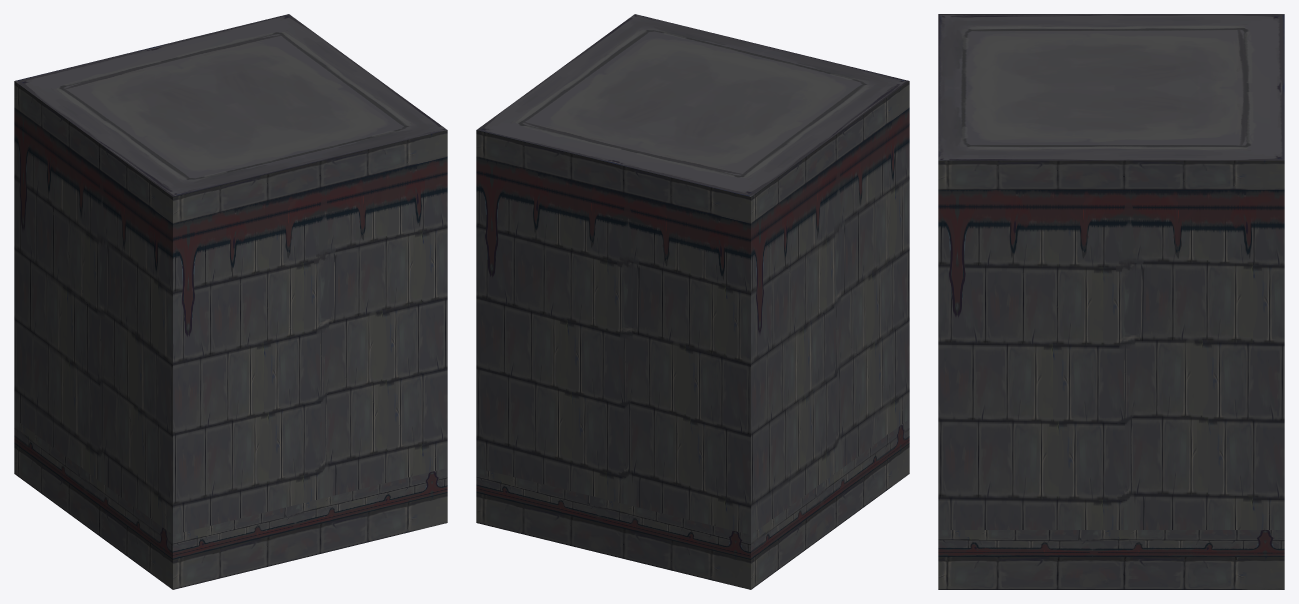
File: Pillar_Square_02.glb
3 renders of one model, left to right at view 1: azimuth 30°, elevation 25°; view 2: azimuth 150°, elevation 25°; view 3: azimuth 270°, elevation 25°, orthographic. The views are drawn at different scales.
Parts seen in each view (by area): view 1: Plane.009; view 2: Plane.009; view 3: Plane.009.
Boxes of the visible parts, bbox=[...] form: Plane.009: bbox=[14, 14, 447, 589]; Plane.009: bbox=[476, 14, 909, 589]; Plane.009: bbox=[938, 14, 1284, 589].
Size of the model in its own units: 4.05 by 5.54 by 4.05.
1 material, 1 textured.
